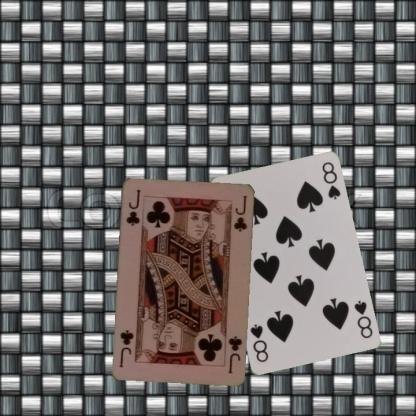8s: (351, 298, 374, 340)
Jc: (123, 187, 142, 227), (225, 333, 243, 374)
